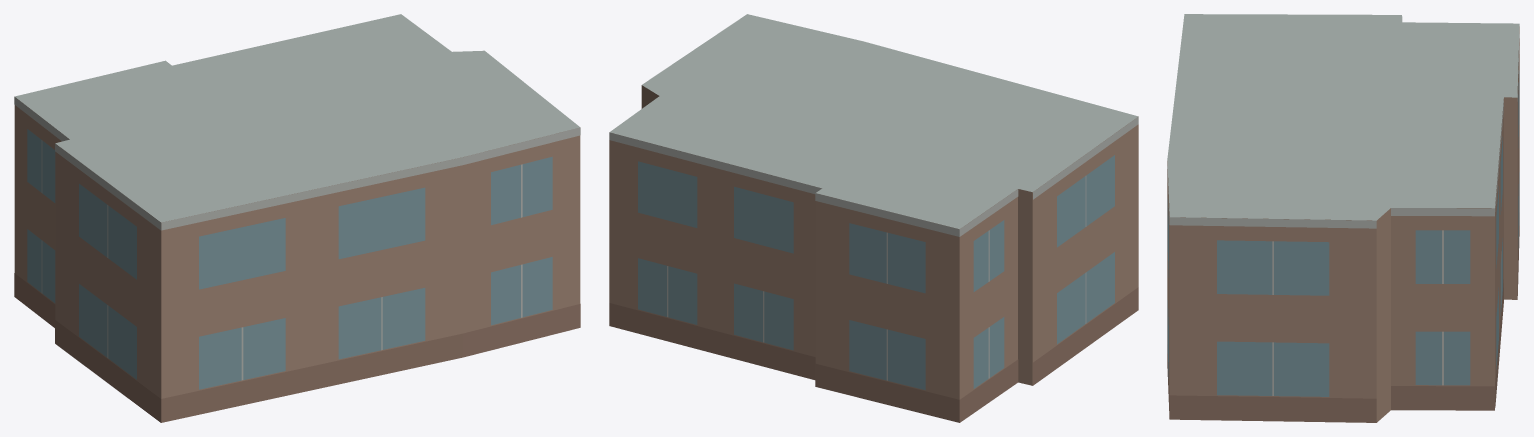
File: survey-upis-32908647.glb
3 renders of one model, left to right at view 1: azimuth 30°, elevation 25°; view 2: azimuth 150°, elevation 25°; view 3: azimuth 270°, elevation 25°, orthographic. The views are drawn at different scales.
Parts seen in each view (by area): view 1: survey-upis-32908647.tmp; view 2: survey-upis-32908647.tmp; view 3: survey-upis-32908647.tmp.
Boxes of the visible parts, left/top/right/bottom form: survey-upis-32908647.tmp: left=14, top=14, right=580, bottom=422; survey-upis-32908647.tmp: left=609, top=14, right=1138, bottom=422; survey-upis-32908647.tmp: left=1167, top=14, right=1519, bottom=422.
Size of the model in its own units: 13.36 by 6.1 by 9.63.
